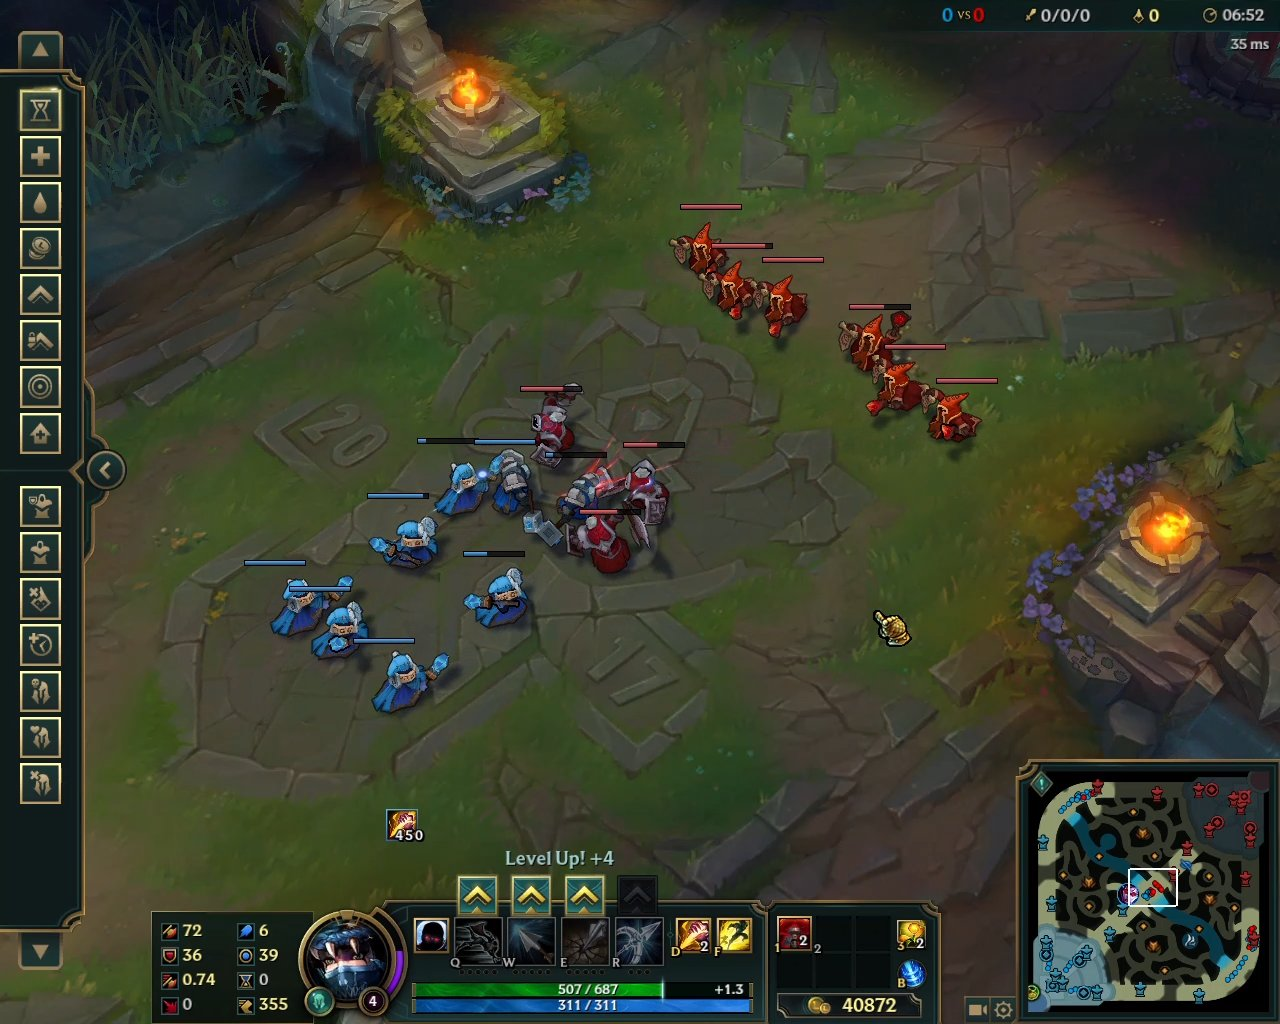EnemyMinion: (607, 439, 686, 531), (564, 506, 652, 582), (828, 300, 915, 375), (519, 378, 584, 474), (865, 342, 946, 418), (699, 243, 773, 326), (750, 256, 822, 340), (667, 203, 743, 281), (916, 378, 996, 450)
